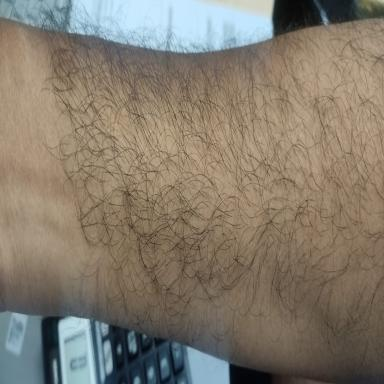normal skin: (0, 19, 384, 380)
